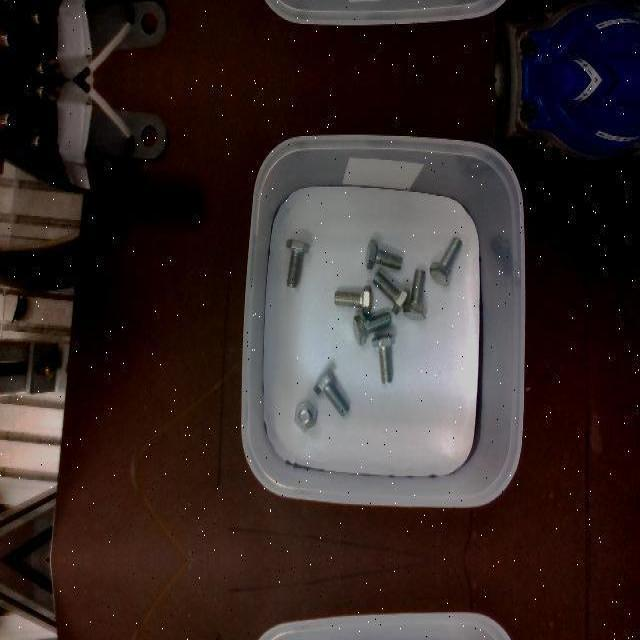screw: (314, 366, 350, 416), (429, 235, 463, 285), (371, 270, 409, 314), (353, 311, 392, 345), (402, 268, 426, 320), (285, 238, 309, 288), (334, 283, 372, 313), (365, 238, 401, 268), (372, 335, 394, 383), (295, 399, 318, 429)
